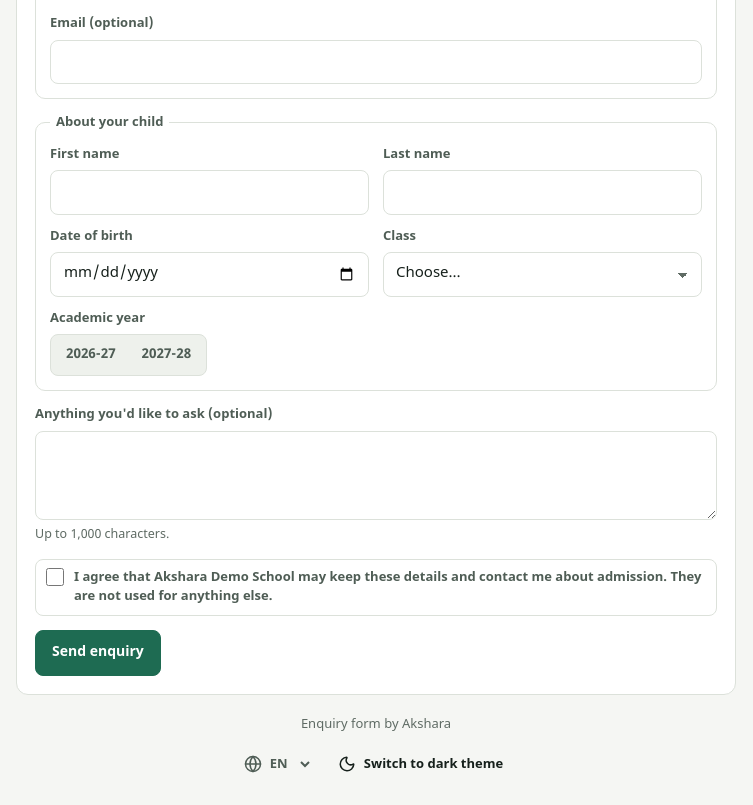
Test: The public enquiry page › is available in Hindi
(page scrolled)
Select "हिन्दी" in the dropdown named "Language" at coordinates (289, 764), box [266,746,313,782]
(page scrolled)
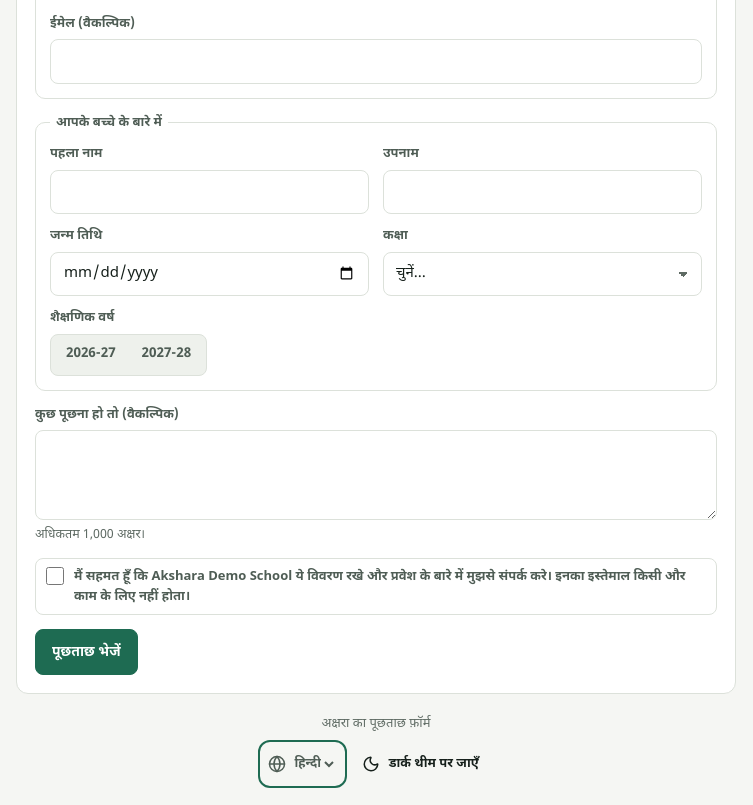
Now the button "पूछताछ भेजें" is shown, box [35,629,138,675]
